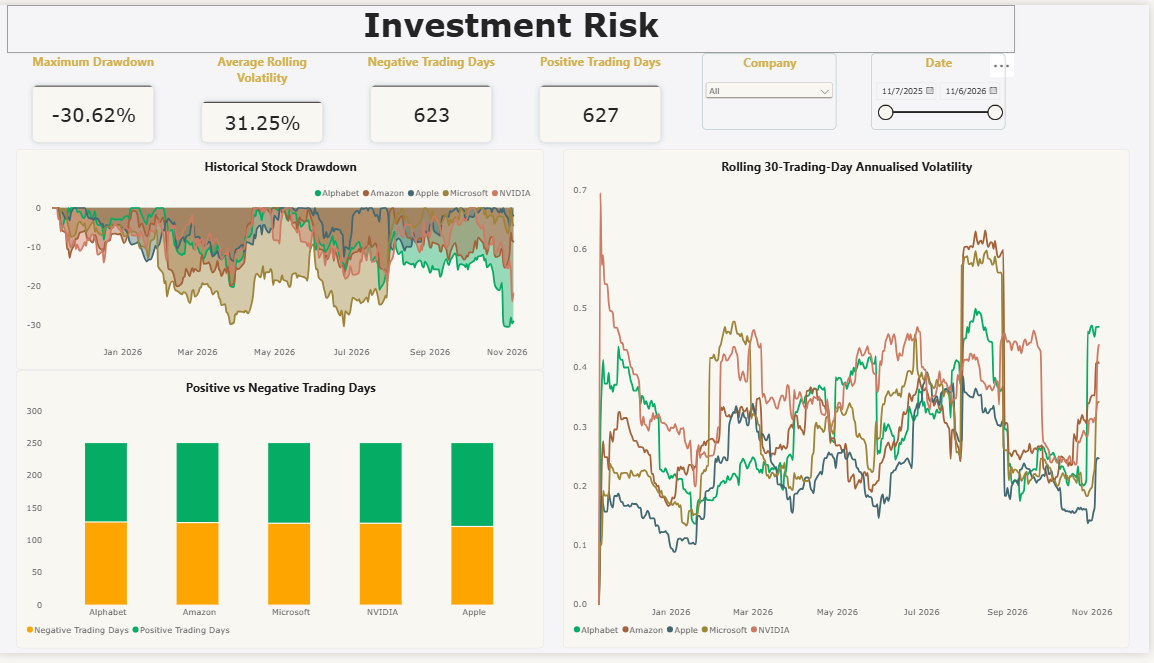

What the dashboard file says about the page in this screenshot:
{"tool":"powerbi","page":{"name":"Investment Risk","canvas":[1920,1080],"ordinal":2},"visuals":[{"type":"textbox","box":[16,0,1680,80],"z":0},{"type":"areaChart","title":"Historical Stock Drawdown","fields":{"Category":["LocalDateTable_cead320a-16ea-40d0-a2f5-06fa50b2885f.Date"],"Series":["DimCompany.CompanyName"],"Y":["Sum(FactStockPrices.Drawdown)"]},"box":[32,240,880,368],"z":1000},{"type":"lineChart","title":"Rolling 30-Trading-Day Annualised Volatility","fields":{"Category":["LocalDateTable_cead320a-16ea-40d0-a2f5-06fa50b2885f.Date"],"Series":["DimCompany.CompanyName"],"Y":["Measure Table.Rolling 30-Day Volatility"]},"box":[944,240,944,832],"z":2000},{"type":"columnChart","title":"Positive vs Negative Trading Days","fields":{"Category":["DimCompany.CompanyName"],"Y":["Measure Table.Negative Trading Days","Measure Table.Positive Trading Days"]},"box":[32,608,880,464],"z":3000},{"type":"cardVisual","title":"Maximum Drawdown","fields":{"Data":["Measure Table.Worst Maximum Drawdown"]},"box":[48,80,224,160],"z":4000},{"type":"cardVisual","title":"Positive Trading Days","fields":{"Data":["Measure Table.Positive Trading Days"]},"box":[892.8,80,224,160],"z":5000},{"type":"cardVisual","title":"Negative Trading Days","fields":{"Data":["Measure Table.Negative Trading Days"]},"box":[611.2,80,224,160],"z":6000},{"type":"cardVisual","title":"Average Rolling Volatility","fields":{"Data":["Measure Table.Average Rolling Volatility"]},"box":[329.6,80,224,160],"z":7000},{"type":"slicer","title":"Company","fields":{"Values":["DimCompany.CompanyName"]},"box":[1174.4,80,224,128],"z":8000},{"type":"slicer","title":"Date","fields":{"Values":["DimDate.Date"]},"box":[1456,80,224,128],"z":9000}]}

Visuals, with their boxes in screenshot pixels (x1, y1, x2, y2), scaled from the page's 1920x1080 canvas onto the 1154x663 screenshot:
textbox: box(10, 0, 1019, 49)
"Historical Stock Drawdown" areaChart: box(19, 147, 548, 373)
"Rolling 30-Trading-Day Annualised Volatility" lineChart: box(567, 147, 1135, 658)
"Positive vs Negative Trading Days" columnChart: box(19, 373, 548, 658)
"Maximum Drawdown" cardVisual: box(29, 49, 163, 147)
"Positive Trading Days" cardVisual: box(537, 49, 671, 147)
"Negative Trading Days" cardVisual: box(367, 49, 502, 147)
"Average Rolling Volatility" cardVisual: box(198, 49, 333, 147)
"Company" slicer: box(706, 49, 840, 128)
"Date" slicer: box(875, 49, 1010, 128)
